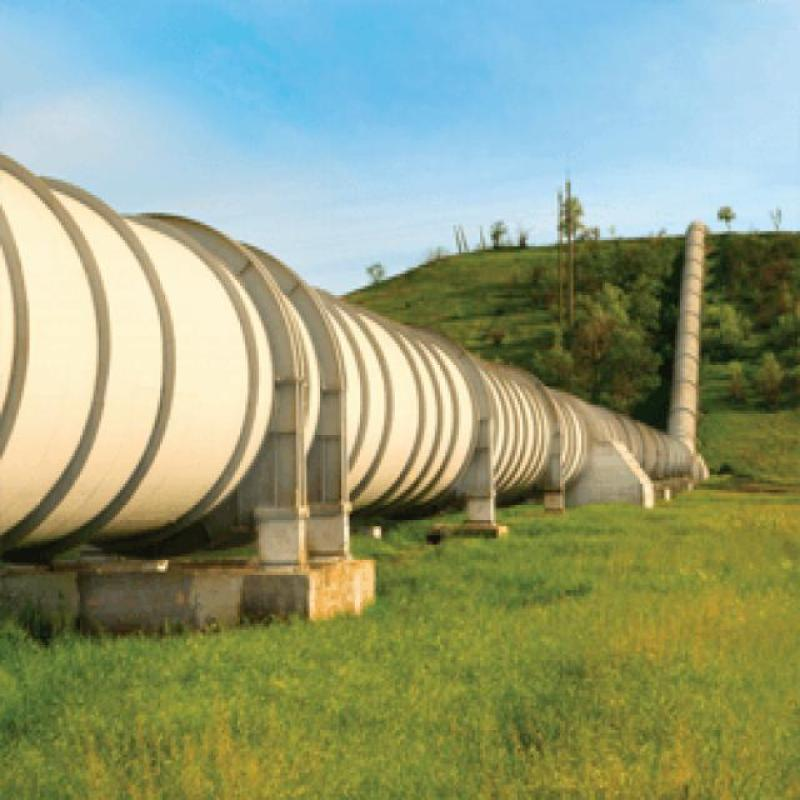Healthy: (25, 139, 703, 526)
